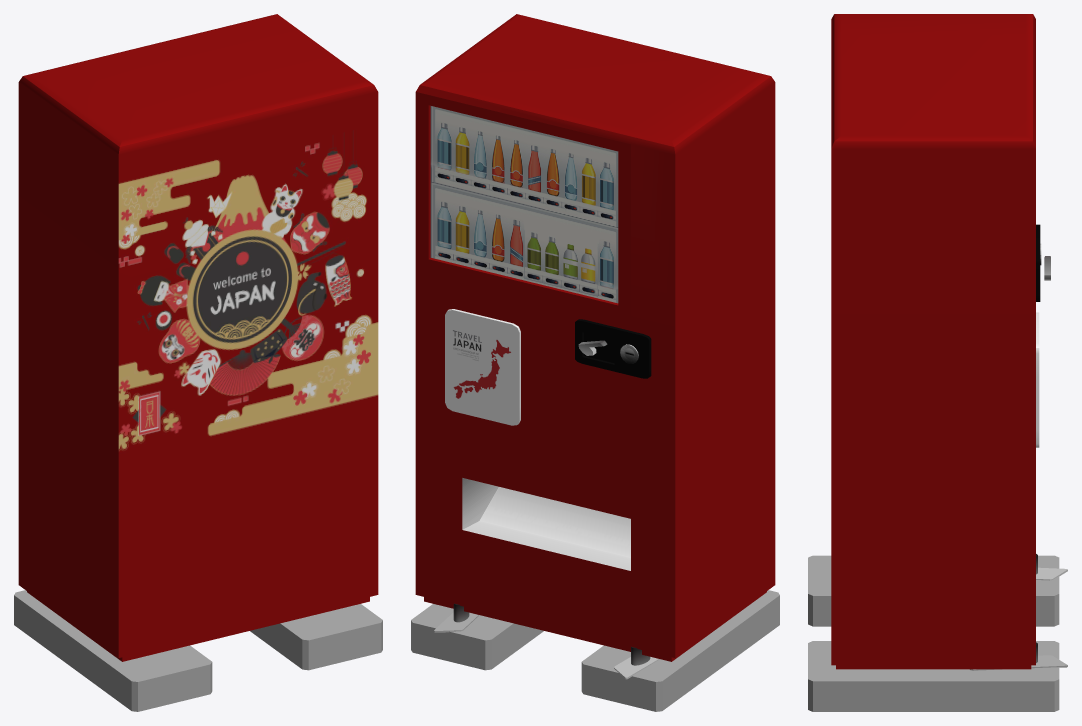
Rendered from vending_machine.fbx.
The picture shows the model from 3 angles, left to right: view 1: azimuth 30°, elevation 25°; view 2: azimuth 150°, elevation 25°; view 3: azimuth 270°, elevation 25°; orthographic projection. The views are drawn at different scales.
Visible parts, largest first — view 1: polySurface3, pCube2, pCube5; view 2: polySurface3, pCube2, pCube9, pCube5, pCube6; view 3: polySurface3, pCube5, pCube2, pCube9.
Boxes of the visible parts, x1=… form: polySurface3: x1=18, y1=14, x2=378, y2=661; pCube2: x1=14, y1=590, x2=212, y2=711; pCube5: x1=250, y1=604, x2=382, y2=670; polySurface3: x1=415, y1=14, x2=775, y2=661; pCube2: x1=581, y1=590, x2=779, y2=711; pCube9: x1=445, y1=309, x2=520, y2=425; pCube5: x1=411, y1=604, x2=543, y2=670; pCube6: x1=575, y1=319, x2=651, y2=378; polySurface3: x1=831, y1=14, x2=1035, y2=669; pCube5: x1=808, y1=641, x2=1059, y2=711; pCube2: x1=808, y1=555, x2=1059, y2=626; pCube9: x1=1036, y1=312, x2=1039, y2=447.
Bounding box in the file's own units: 9.08 × 18.7 × 7.67.
